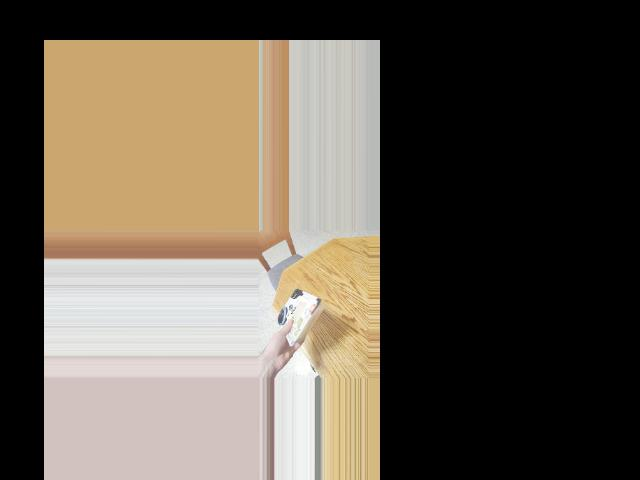cheese: (276, 285, 332, 341)
